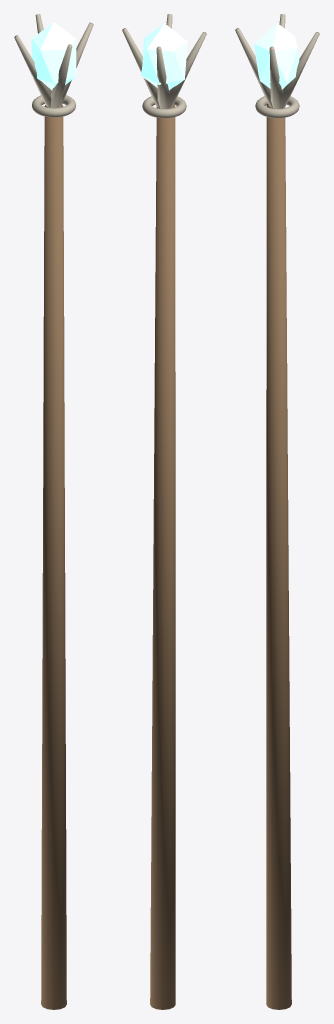
Rendered from staff.glb.
3 views of the same model, side by side, from view 1: azimuth 90°, elevation 25°; view 2: azimuth 150°, elevation 25°; view 3: azimuth 330°, elevation 25° (orthographic).
Parts seen in each view (by area): view 1: Staff; view 2: Staff; view 3: Staff.
Part boxes in pixels (box(x1,y1,x2,y2)): Staff: box(14, 14, 93, 1009); Staff: box(122, 14, 206, 1009); Staff: box(235, 14, 319, 1009).
Size of the model in its own units: 0.1345 by 1.86 by 0.1362.
